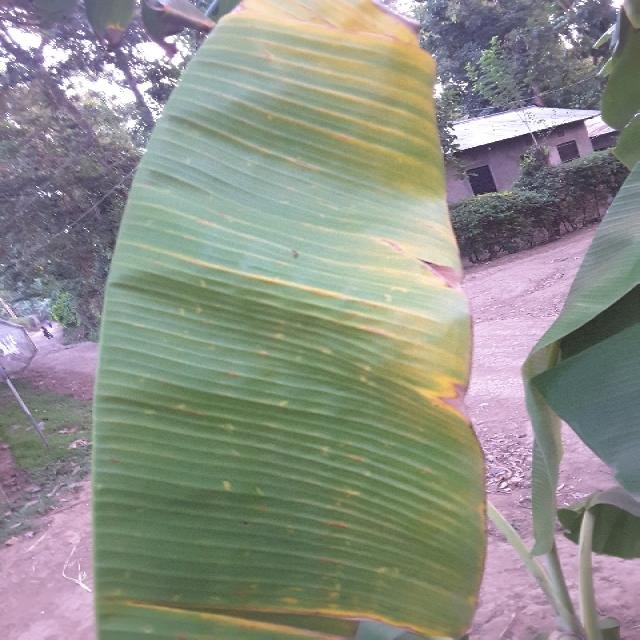Cordana: (157, 0, 489, 442), (75, 552, 505, 640)
